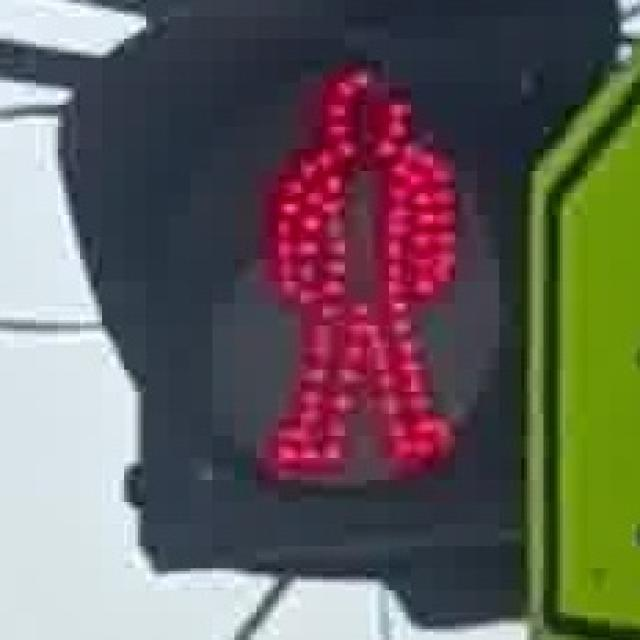red-crossing: (224, 33, 486, 508)
